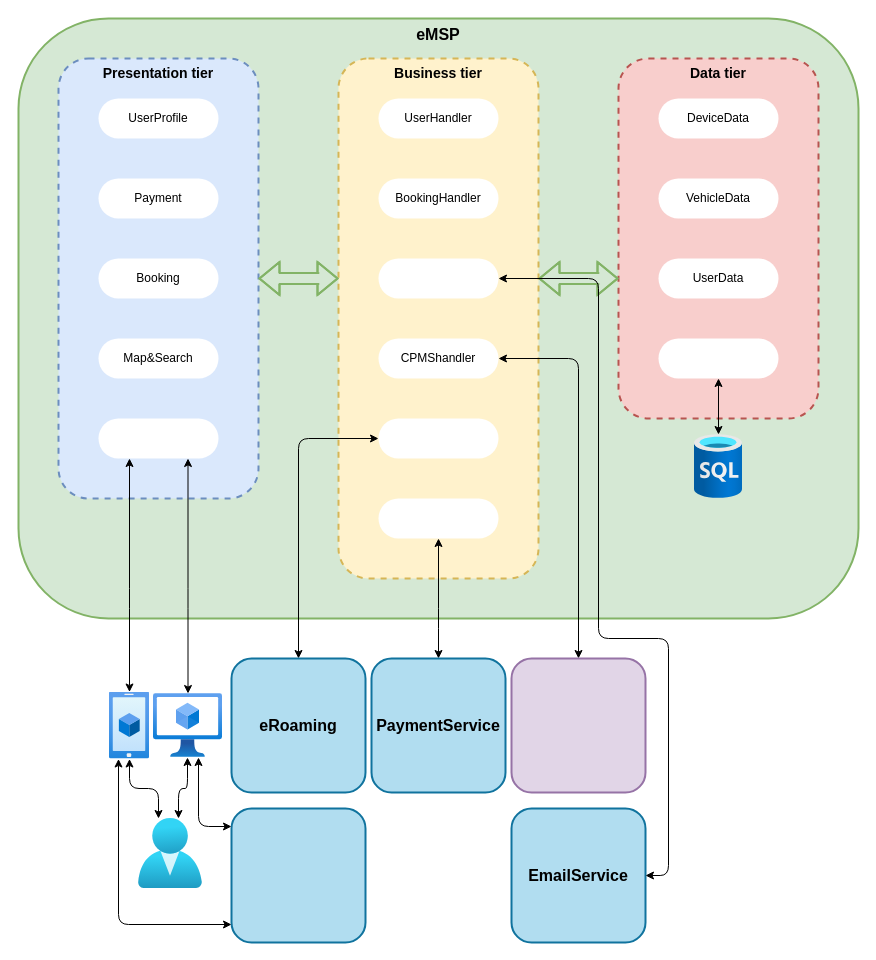
Image size: 876x960. Some labels were removed from this diagram. Here are the shapes that lost their labels. From the top down, the centre of each, then its label:
At (x=438, y=278): "EmailHandler".
At (x=718, y=358): "DBMS".
At (x=158, y=438): "Web server".
At (x=438, y=438): "eRoamingHandler".
At (x=438, y=518): "PaymentHandler".
At (x=578, y=725): "CPMS".
At (x=170, y=853): "eMSP user".
At (x=298, y=875): "OpenStreetMap".
